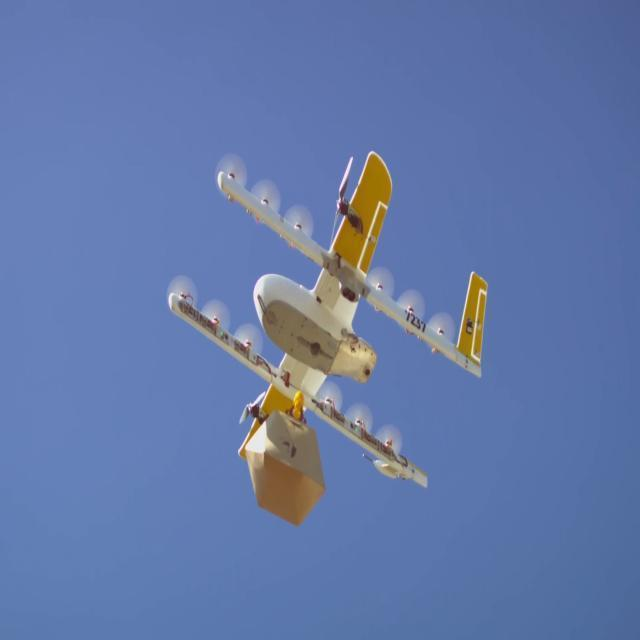iha: (165, 130, 487, 520)
